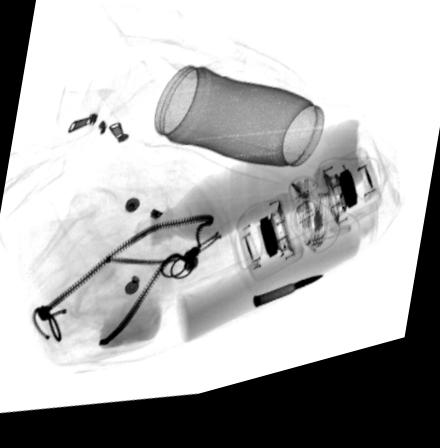Bullet: (250, 290, 326, 321)
